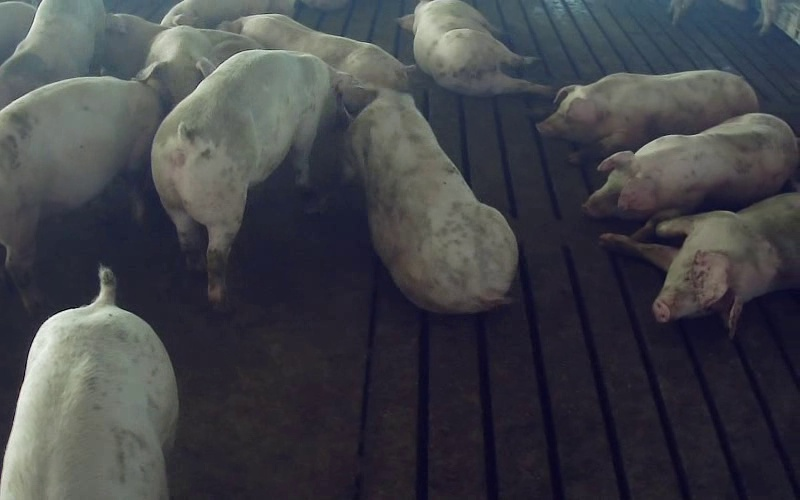pig: (153, 50, 356, 307), (309, 86, 517, 312), (0, 268, 177, 499), (0, 76, 162, 309), (601, 193, 799, 336), (583, 113, 799, 237), (537, 70, 758, 163), (398, 0, 551, 95), (221, 14, 408, 91), (137, 26, 214, 112)
